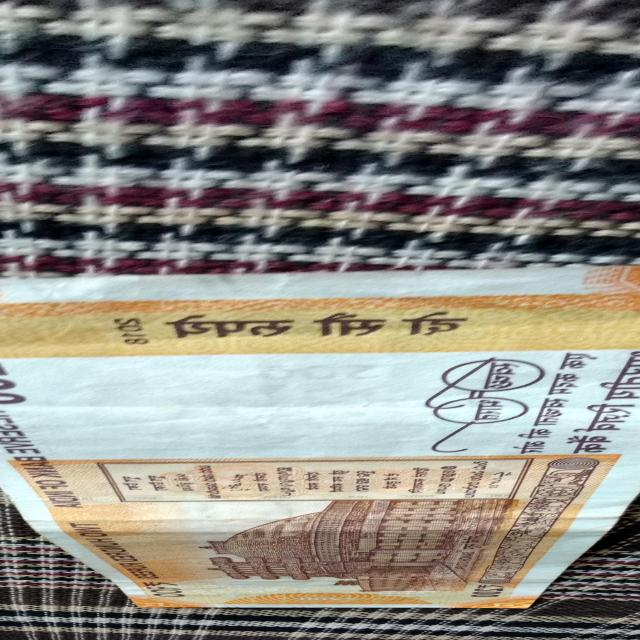Currency: (24, 284, 616, 611)
